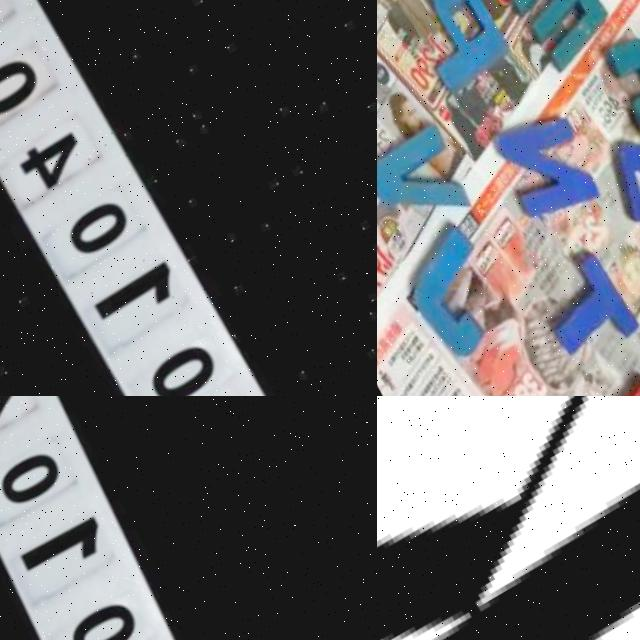0: (51, 180, 163, 276), (135, 322, 255, 396), (0, 433, 90, 522), (0, 38, 67, 136), (58, 582, 171, 640)
1: (89, 247, 213, 354), (18, 505, 134, 604)
4: (0, 108, 120, 211), (0, 396, 52, 454)
B: (591, 111, 640, 264)
J: (392, 214, 534, 362)
K: (377, 396, 640, 640), (601, 19, 640, 132)
M: (496, 0, 621, 62)
N: (482, 93, 617, 232)
P: (402, 0, 527, 93)
T: (528, 240, 640, 365)
V: (377, 114, 489, 238)
